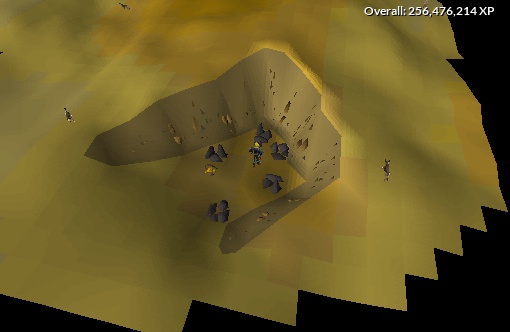depleted: (205, 197, 236, 225), (203, 141, 232, 167), (260, 171, 288, 194), (267, 140, 295, 163)
